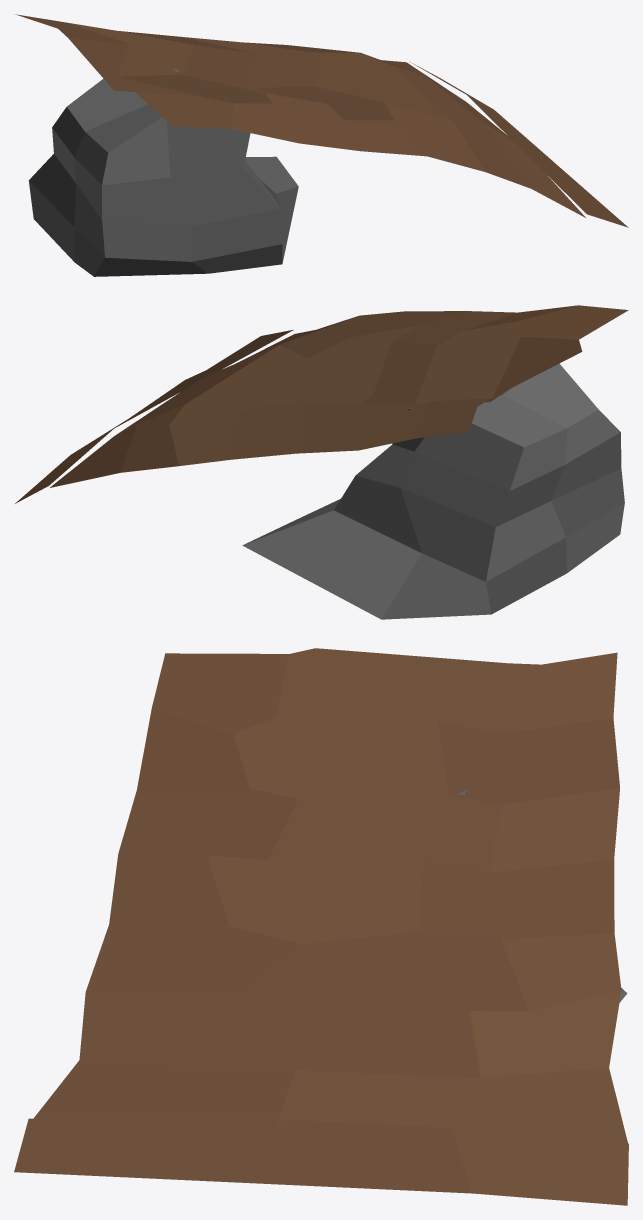
File: RampaMaderaChica.glb
3 views of the same model, one above another, from view 1: azimuth 30°, elevation 25°; view 2: azimuth 150°, elevation 25°; view 3: azimuth 270°, elevation 25° (orthographic). The views are drawn at different scales.
Parts seen in each view (by area): view 1: RampaChica, Piedra; view 2: Piedra, RampaChica; view 3: RampaChica.
Boxes of the visible parts, left/top/right/bottom form: RampaChica: left=15, top=14, right=628, bottom=227; Piedra: left=28, top=68, right=298, bottom=276; Piedra: left=242, top=363, right=624, bottom=619; RampaChica: left=15, top=305, right=628, bottom=503; RampaChica: left=14, top=648, right=628, bottom=1205.
Size of the model in its own units: 3.44 by 1.42 by 2.74.
